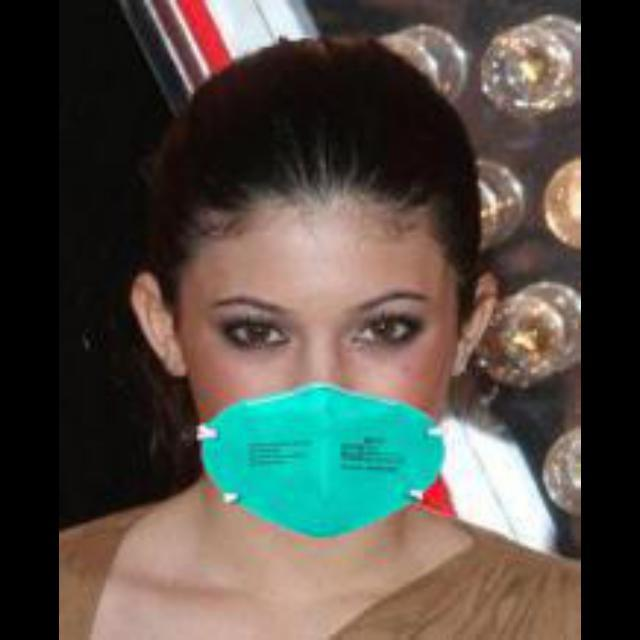suspicion: (90, 55, 488, 545)
